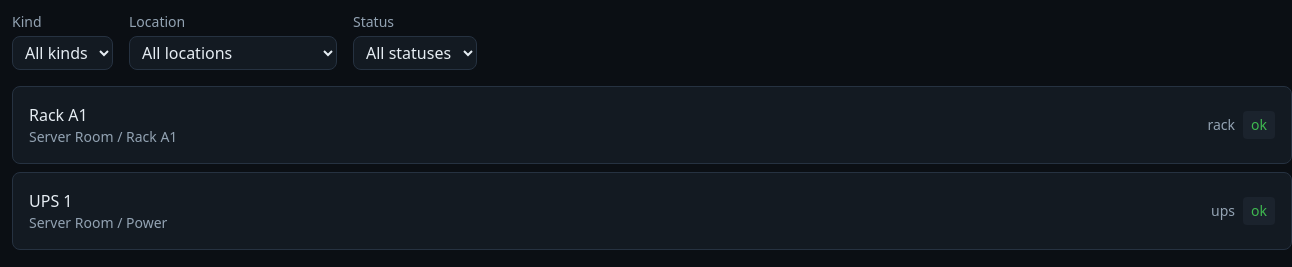
Test: DevicesPage filters › shows an explicit empty state when filters match nothing
The width and height of the screenshot is (1292, 267).
Expected: the text "Rack A1" is shown, [29, 104, 88, 126]
Select "crac" in the dropdown labelled "Kind": coordinates (62, 53) [12, 36, 113, 70]
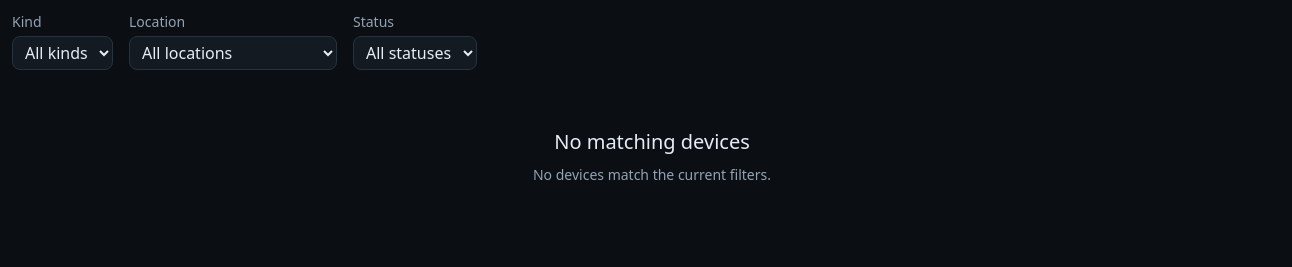
Expected: the text "No matching devices" is shown, [554, 126, 750, 157]
